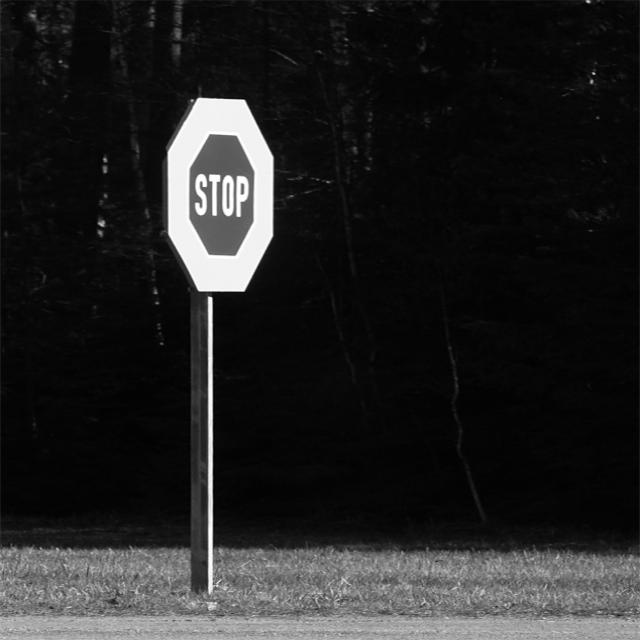Stop-sign: (160, 98, 276, 295)
